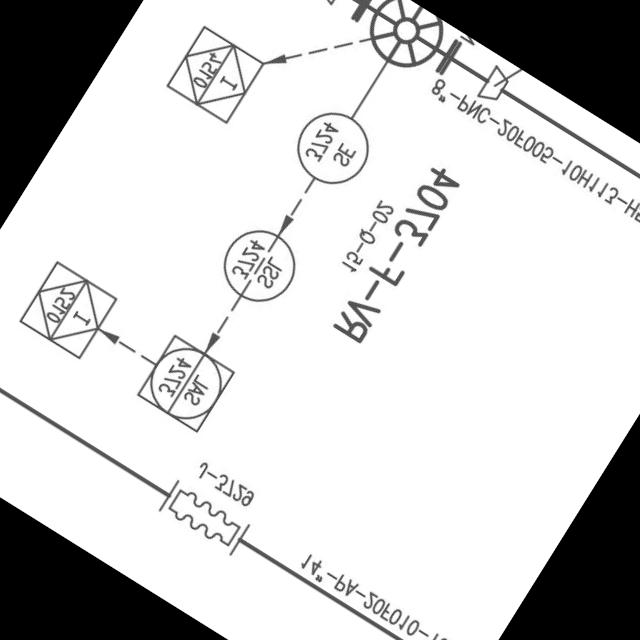EJ: (150, 474, 259, 566)
RV1: (351, 0, 456, 90)
SP: (474, 61, 517, 108), (309, 0, 358, 12)
